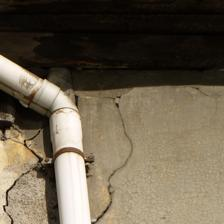Crack: (95, 100, 138, 224), (2, 167, 36, 224), (21, 124, 51, 162)
